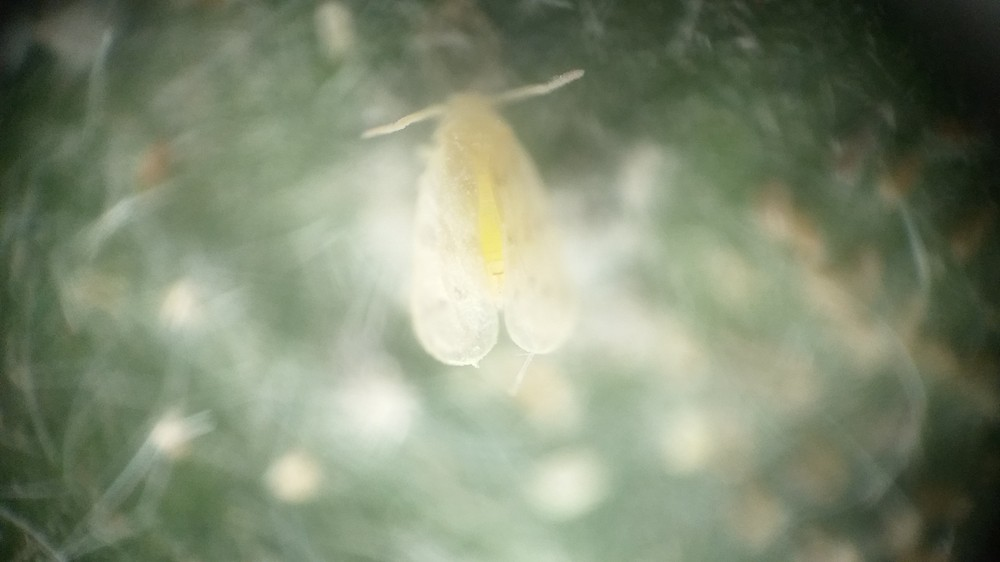Mosca Blanca: (350, 61, 629, 383)
